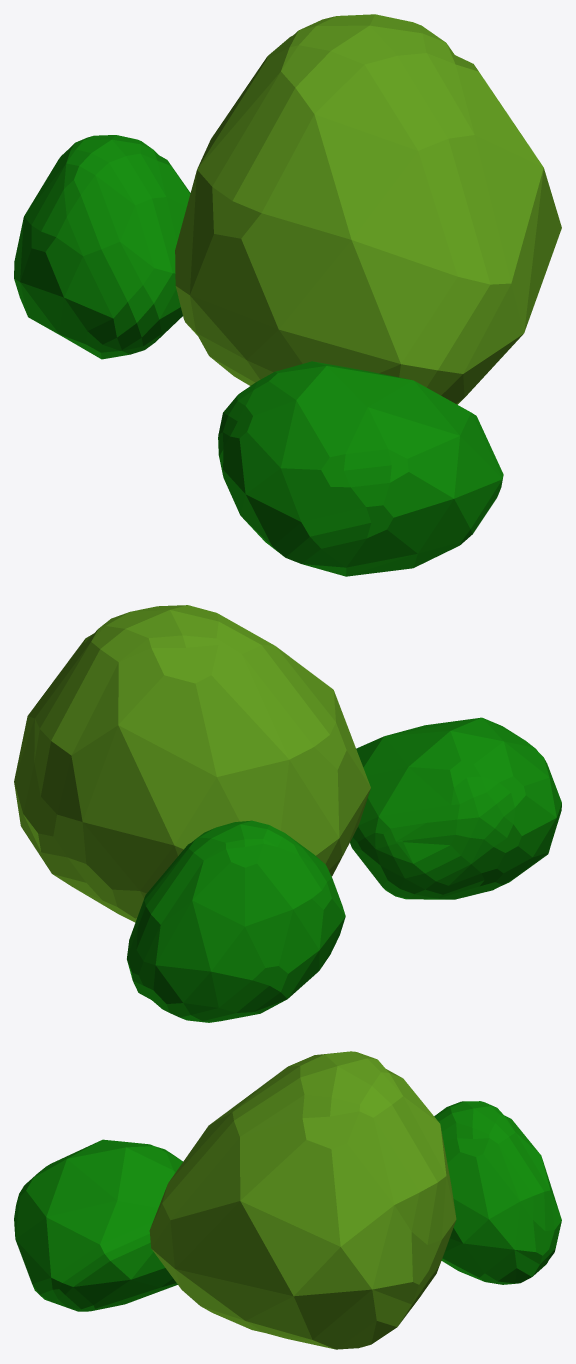
Rendered from bush-1.fbx.
3 views of the same model, one above another, from view 1: azimuth 30°, elevation 25°; view 2: azimuth 150°, elevation 25°; view 3: azimuth 270°, elevation 25° (orthographic). The views are drawn at different scales.
Visible parts, largest first — view 1: Icosphere.029, Icosphere.031, Icosphere.030; view 2: Icosphere.029, Icosphere.030, Icosphere.031; view 3: Icosphere.029, Icosphere.031, Icosphere.030.
Boxes of the visible parts, x1,y1,x2,y2 form: Icosphere.029: (175,14,561,404); Icosphere.031: (218,361,503,576); Icosphere.030: (14,135,190,359); Icosphere.029: (14,605,370,922); Icosphere.030: (127,820,345,1022); Icosphere.031: (350,717,561,899); Icosphere.029: (149,1051,456,1349); Icosphere.031: (14,1139,182,1311); Icosphere.030: (434,1101,561,1284).
Bounding box in the file's own units: 191 × 158 × 265.
